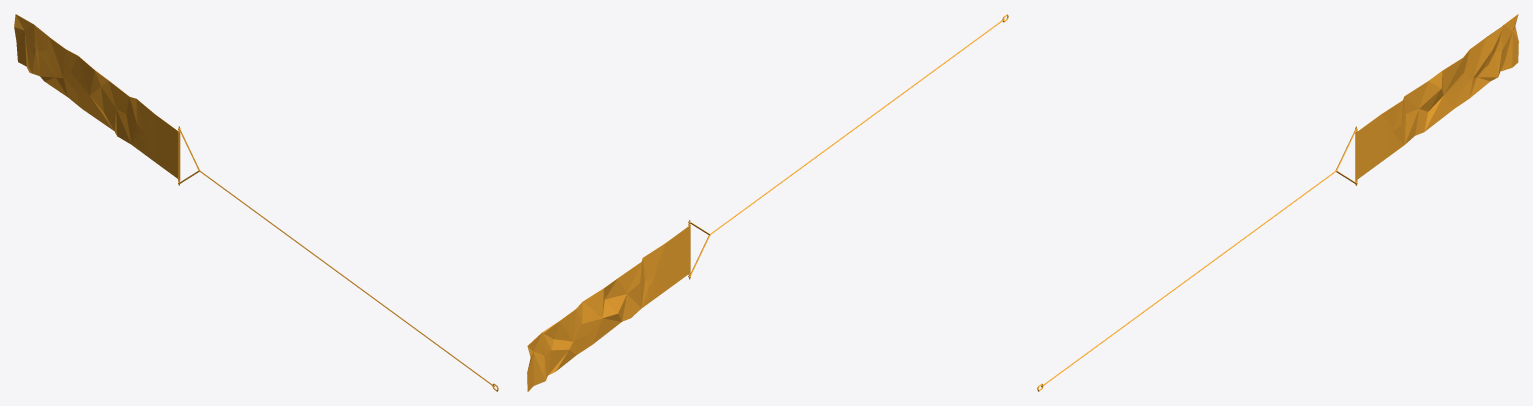
File: SM_Plane_Banner_Sale.fbx
The picture shows the model from 3 angles, left to right: view 1: azimuth 30°, elevation 25°; view 2: azimuth 150°, elevation 25°; view 3: azimuth 330°, elevation 25°; orthographic projection.
Parts seen in each view (by area): view 1: SM_Plane_Banner_Sale; view 2: SM_Plane_Banner_Sale; view 3: SM_Plane_Banner_Sale.
Part boxes in pixels (left/top/right/bottom): SM_Plane_Banner_Sale: left=14, top=14, right=498, bottom=391; SM_Plane_Banner_Sale: left=527, top=14, right=1008, bottom=391; SM_Plane_Banner_Sale: left=1037, top=14, right=1518, bottom=391.
Bounding box in the file's own units: 0.231 × 1.89 × 28.02.
